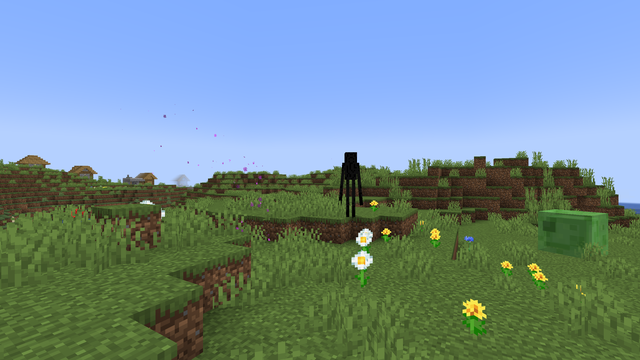endermens: (341, 149, 358, 217)
slimes: (540, 207, 611, 260)
